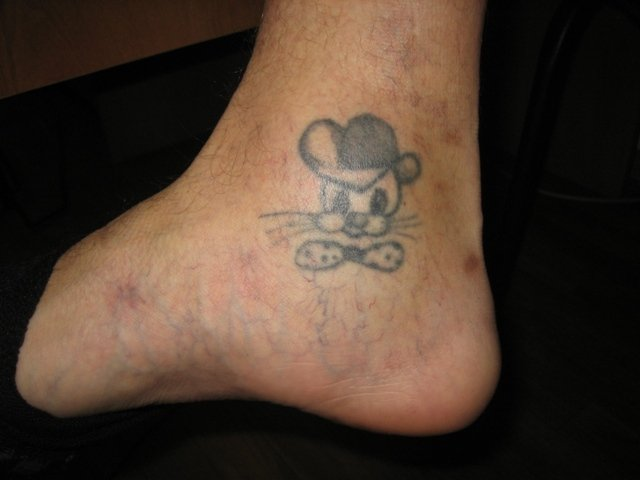tatu8_kot: (255, 103, 430, 278)
